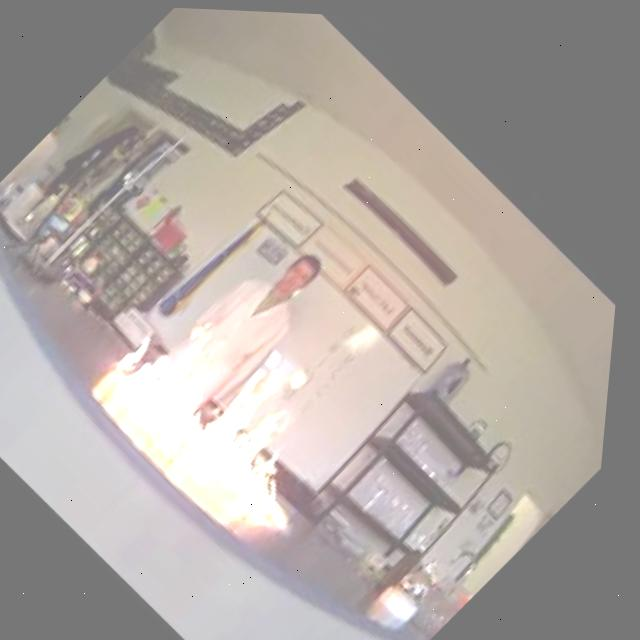Smoke: (94, 272, 386, 541)
